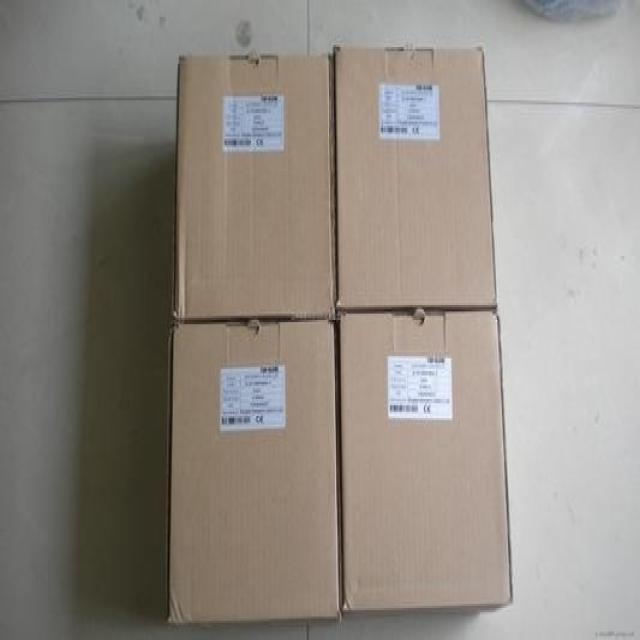box: (339, 316, 513, 617), (167, 320, 339, 621), (334, 41, 498, 309), (172, 53, 336, 318)
